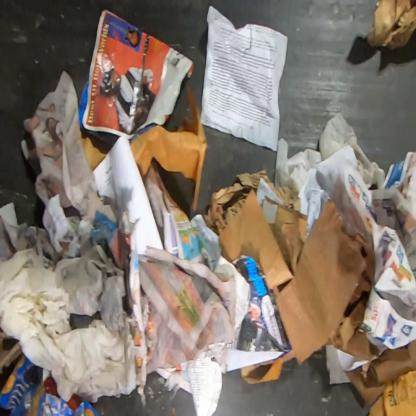cardboard: (272, 199, 380, 366), (218, 178, 308, 292), (342, 337, 415, 406), (365, 0, 416, 52)
soft_plastic: (0, 353, 102, 415)
